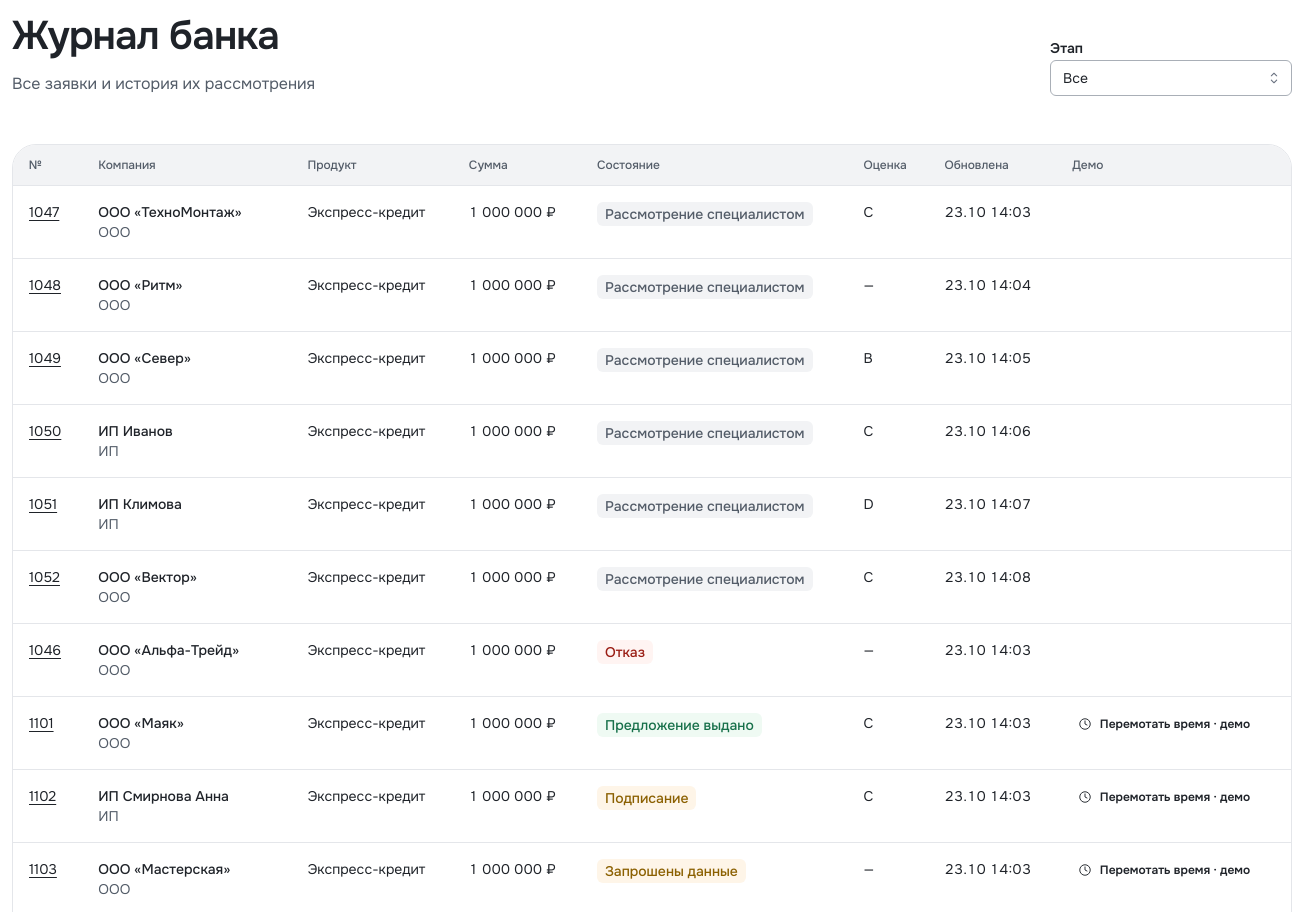
раскрывает события и ссылки, сохраняет русский текст примечания
Click the button named "События заявки № 1047".
click(44, 212)  # box 29,202 -> 59,222
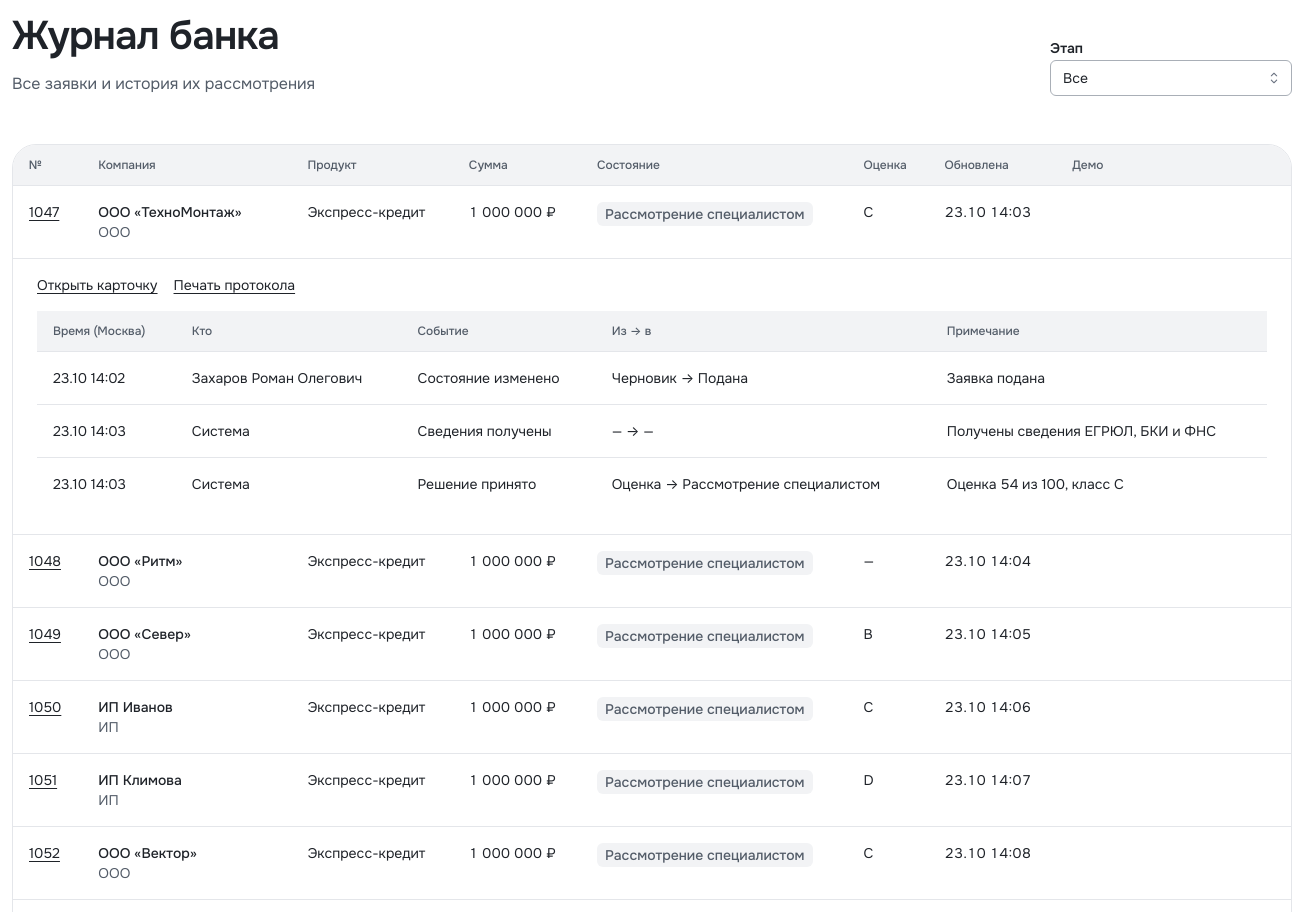
Check: the text "Оценка 54 из 100, класс C" is shown, box 931,458 -> 1267,510
Check: the text "Решение принято" is shown, box 402,458 -> 596,510
